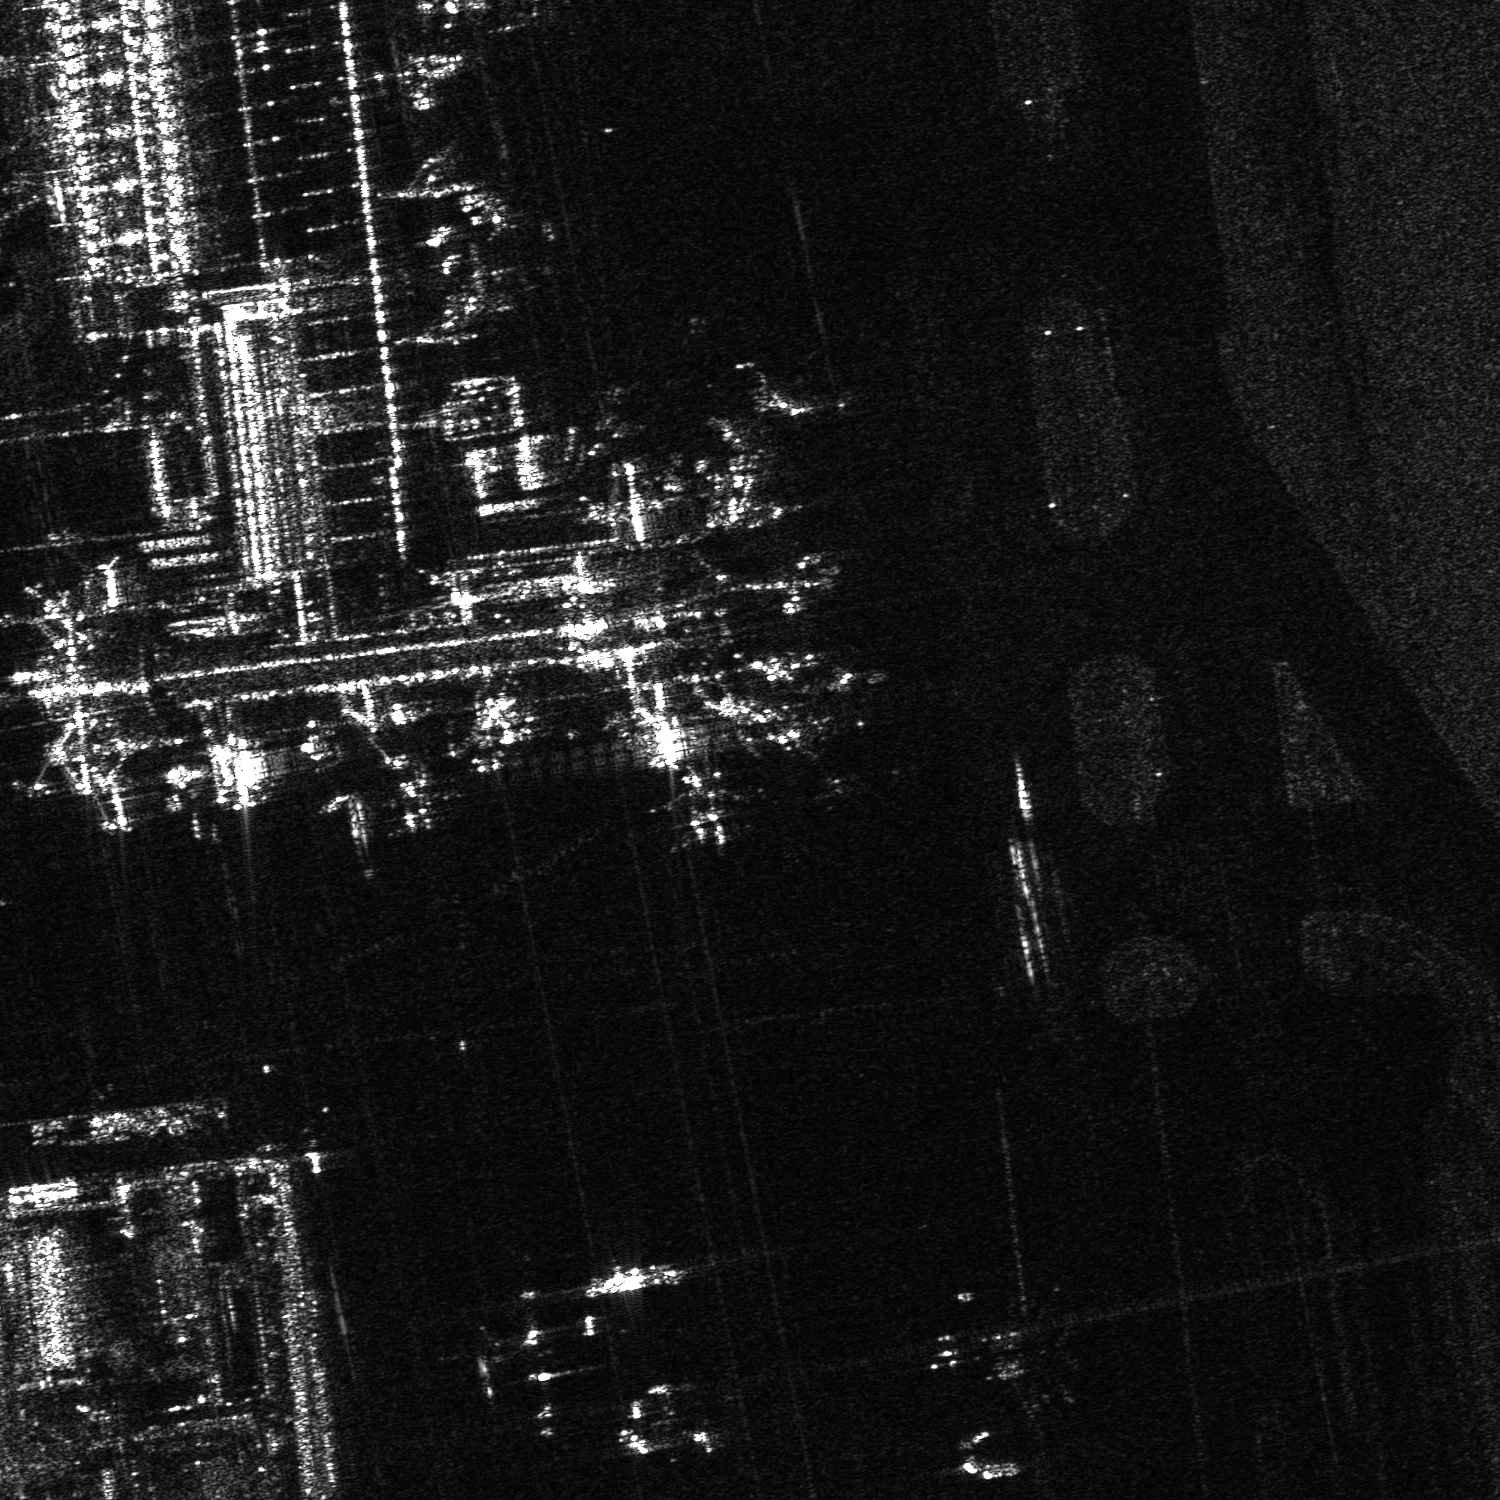Boeing737: (651, 771, 755, 853)
